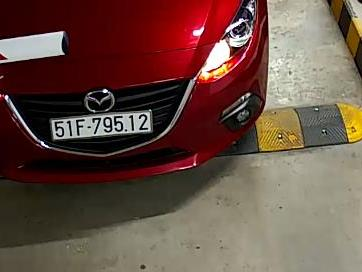car: (50, 109, 154, 144)
